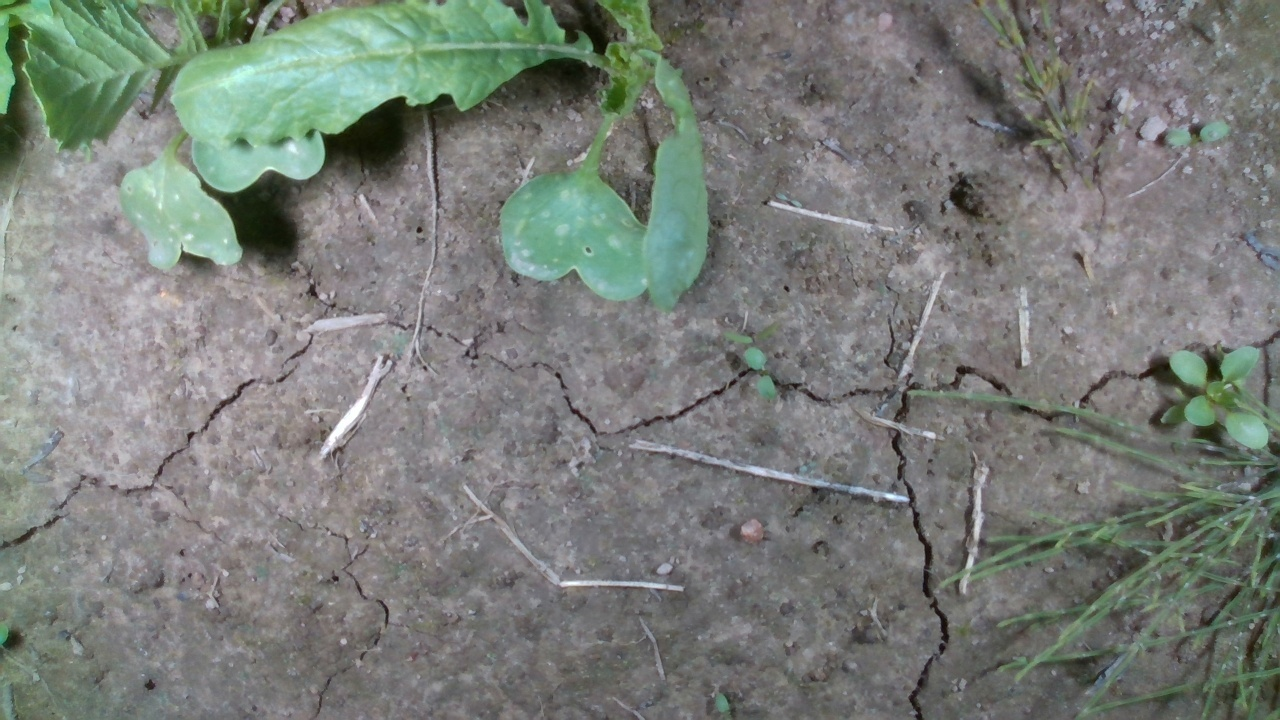weed: (743, 345, 777, 401), (1163, 119, 1229, 147)
